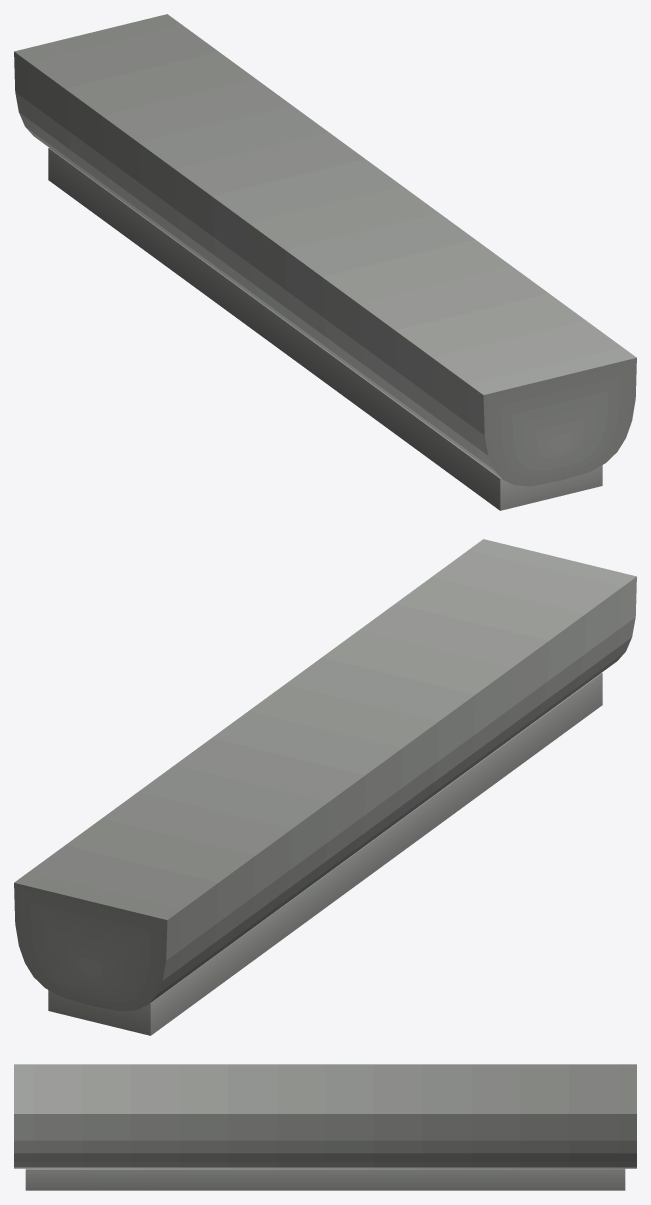
File: streetlight_creestylusfull.obj
3 views of the same model, one above another, from view 1: azimuth 30°, elevation 25°; view 2: azimuth 150°, elevation 25°; view 3: azimuth 270°, elevation 25° (orthographic). The views are drawn at different scales.
Parts seen in each view (by area): view 1: fixture; view 2: fixture; view 3: fixture.
Boxes of the visible parts, x1=… form: fixture: x1=14, y1=14, x2=636, y2=510; fixture: x1=14, y1=539, x2=636, y2=1035; fixture: x1=14, y1=1064, x2=636, y2=1190.
Size of the model in its own units: 0.375 by 0.3 by 1.99.
